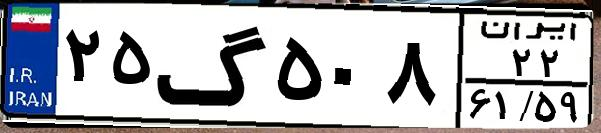0: (330, 28, 385, 110)
1: (495, 70, 520, 125)
2: (57, 26, 110, 100), (537, 27, 568, 80), (508, 27, 537, 80)
5: (270, 28, 330, 110), (110, 28, 156, 98), (535, 70, 560, 125)
6: (470, 70, 495, 125)
8: (385, 28, 445, 110)
9: (560, 70, 590, 125)
گ: (156, 12, 270, 120)
